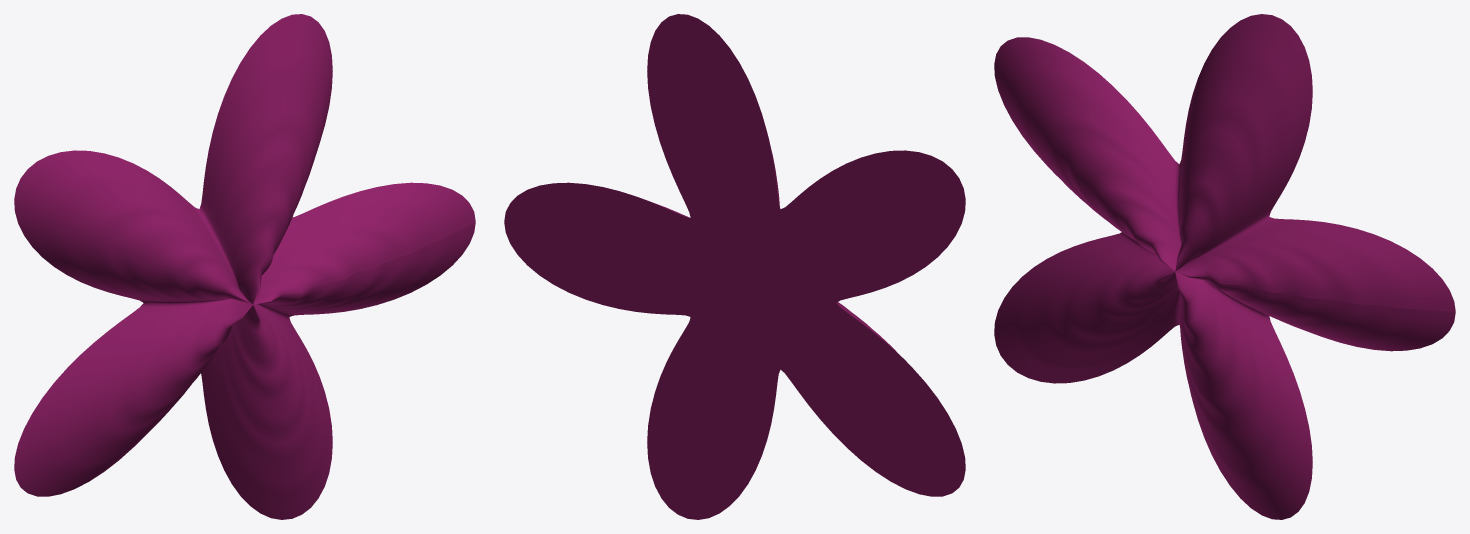
File: starfish.obj
3 views of the same model, side by side, from view 1: azimuth 30°, elevation 25°; view 2: azimuth 150°, elevation 25°; view 3: azimuth 330°, elevation 25° (orthographic).
Bounding box in the file's own units: 0.1101 × 0.1149 × 0.0126.
